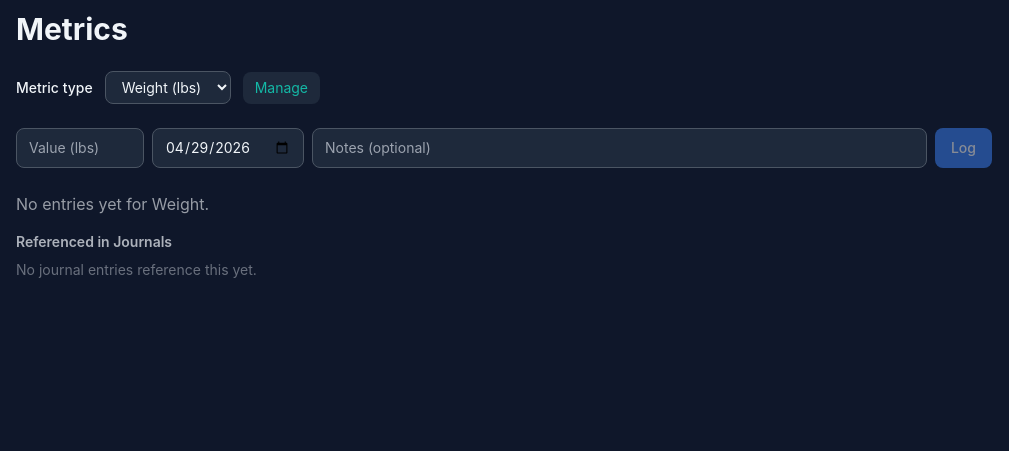
Metrics › shows manage panel with type list and create form
Expected: the dropdown labelled "Metric type" is shown, left=105, top=71, right=231, bottom=104
What coordinates should you click on to do the following:
click the button with aria-label "Manage types"
I would click on:
 (281, 88)
Its box is left=243, top=72, right=320, bottom=104.
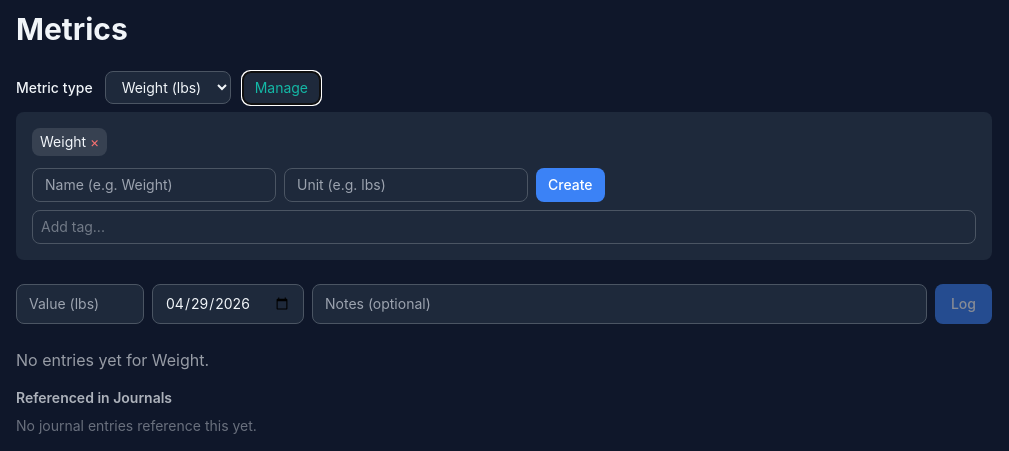
Now the button named "Delete Weight" is shown, box left=90, top=132, right=99, bottom=152
Now the field with placeholder "Name (e.g. Weight)" is shown, box left=32, top=168, right=276, bottom=202
